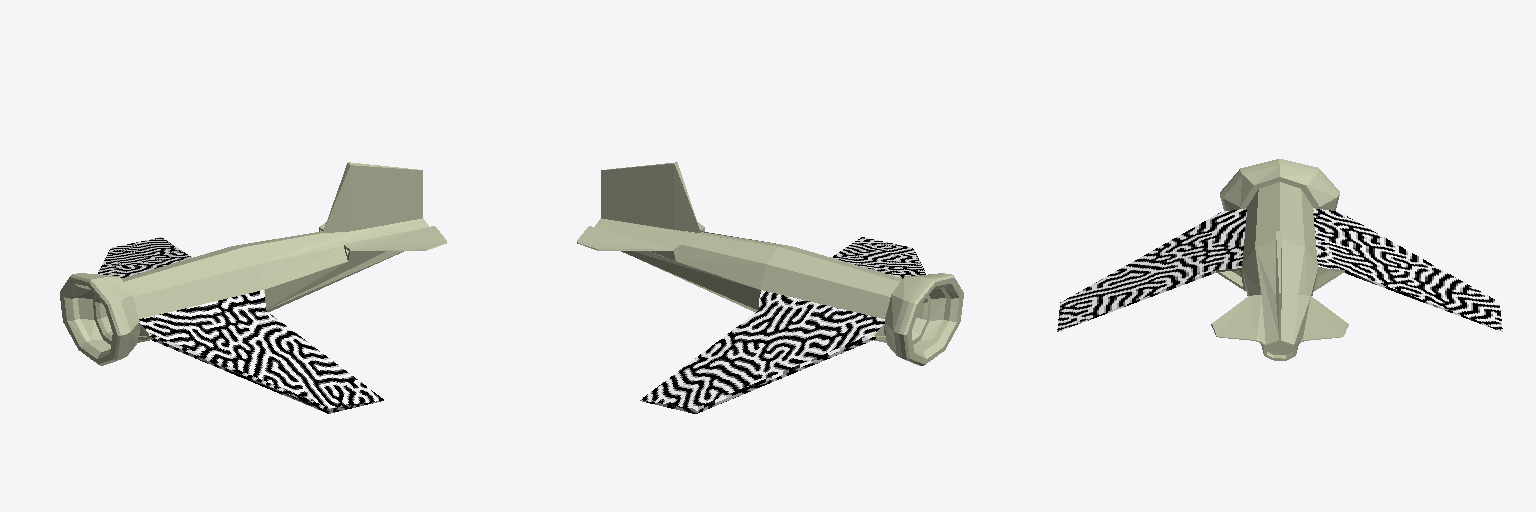
3 renders of one model, left to right at view 1: azimuth 30°, elevation 25°; view 2: azimuth 150°, elevation 25°; view 3: azimuth 270°, elevation 25°, orthographic.
Visible parts, largest first — view 1: cylinder1; view 2: cylinder1; view 3: cylinder1.
Boxes of the visible parts, box(x1,y1,x2,y2) form: cylinder1: box(60, 162, 446, 413); cylinder1: box(577, 162, 963, 413); cylinder1: box(1057, 159, 1502, 360).
Bounding box in the file's own units: 10 × 4.03 × 11.51.
2 materials, 1 textured.